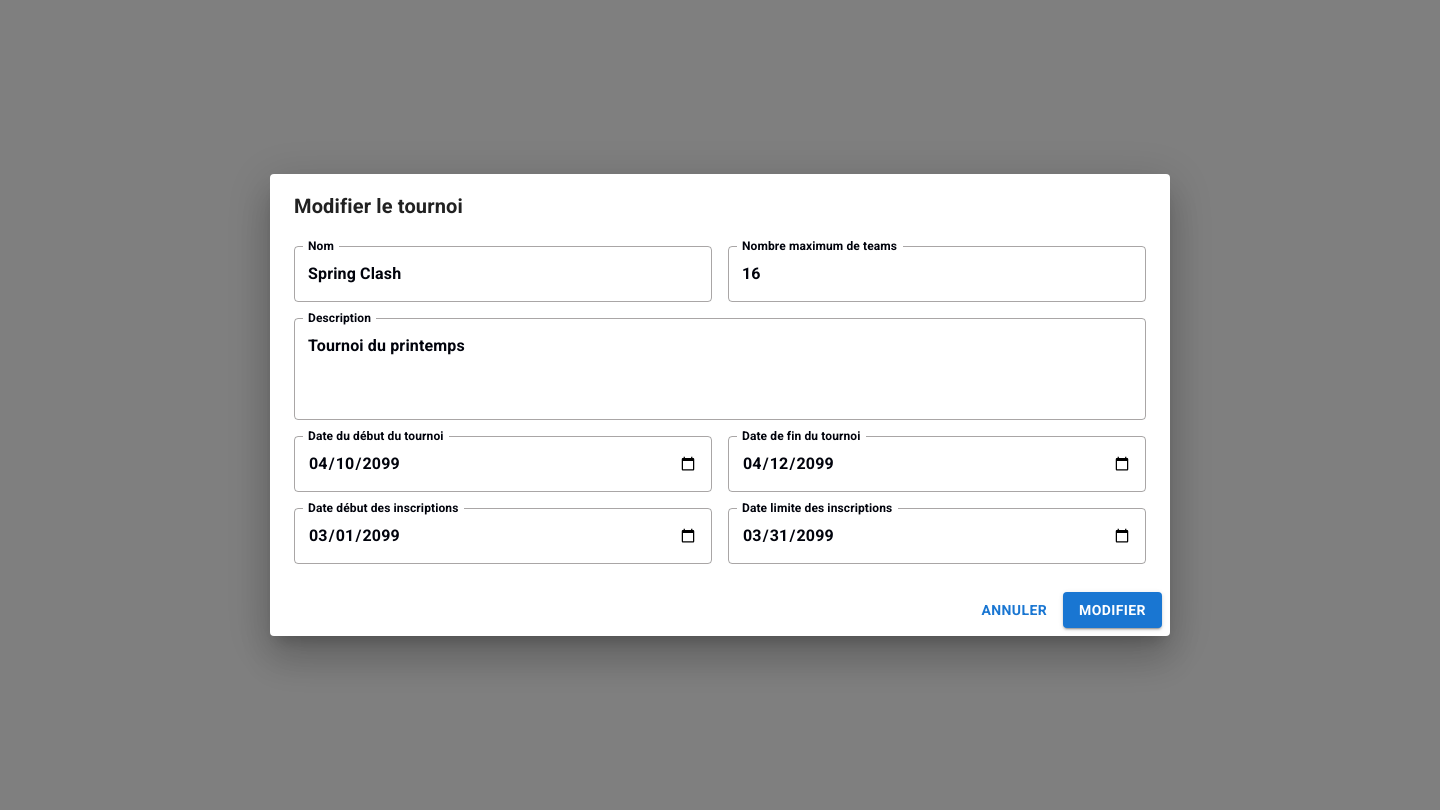
Test: EditTournamentDialog › shows the same validation error as tournament creation and prevents submit
The image size is (1440, 810).
Replace the text in the number field labelled "Nombre maximum de teams" with "1" at (937, 274), box left=728, top=246, right=1146, bottom=302
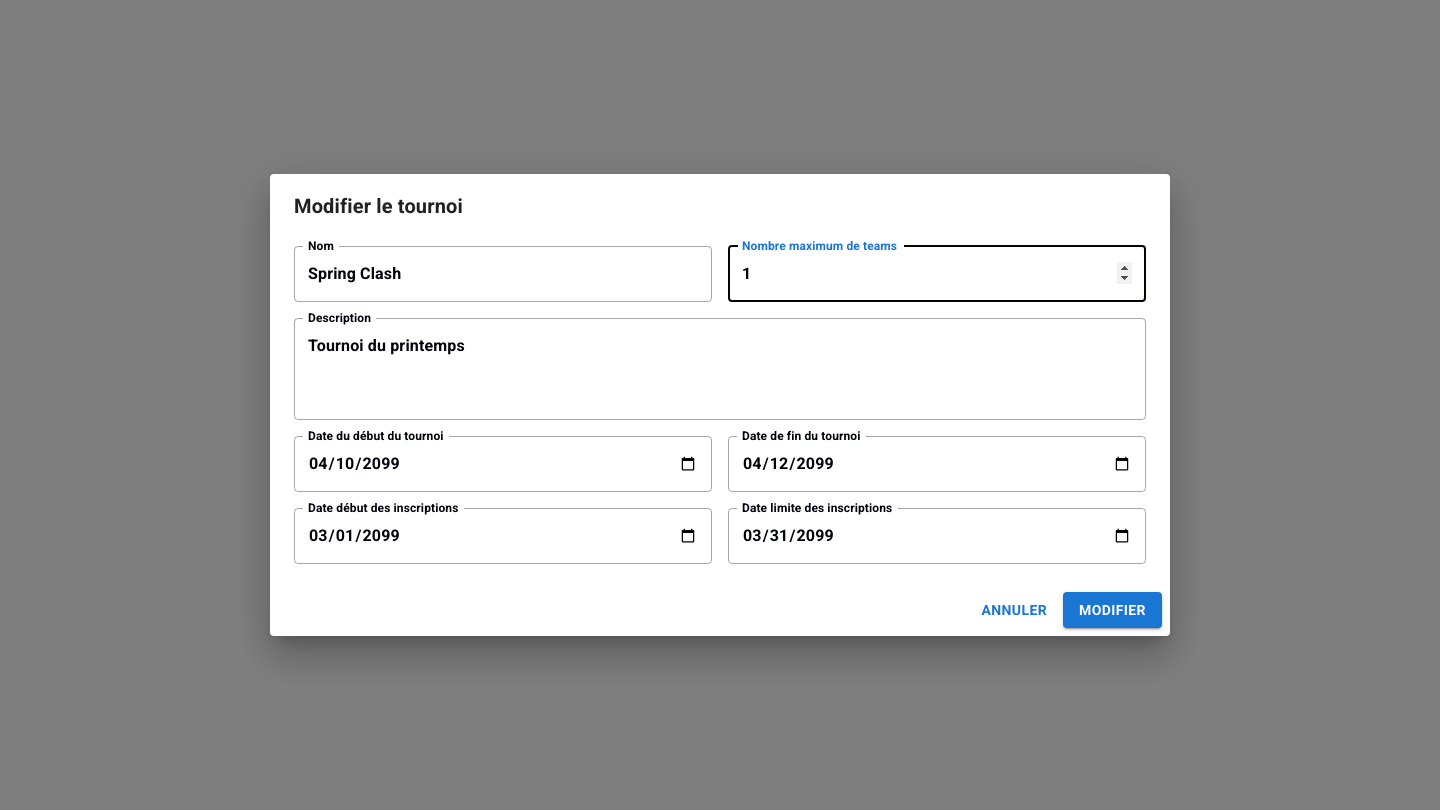
Click the button "Modifier" at (1113, 610), box left=1063, top=592, right=1162, bottom=628
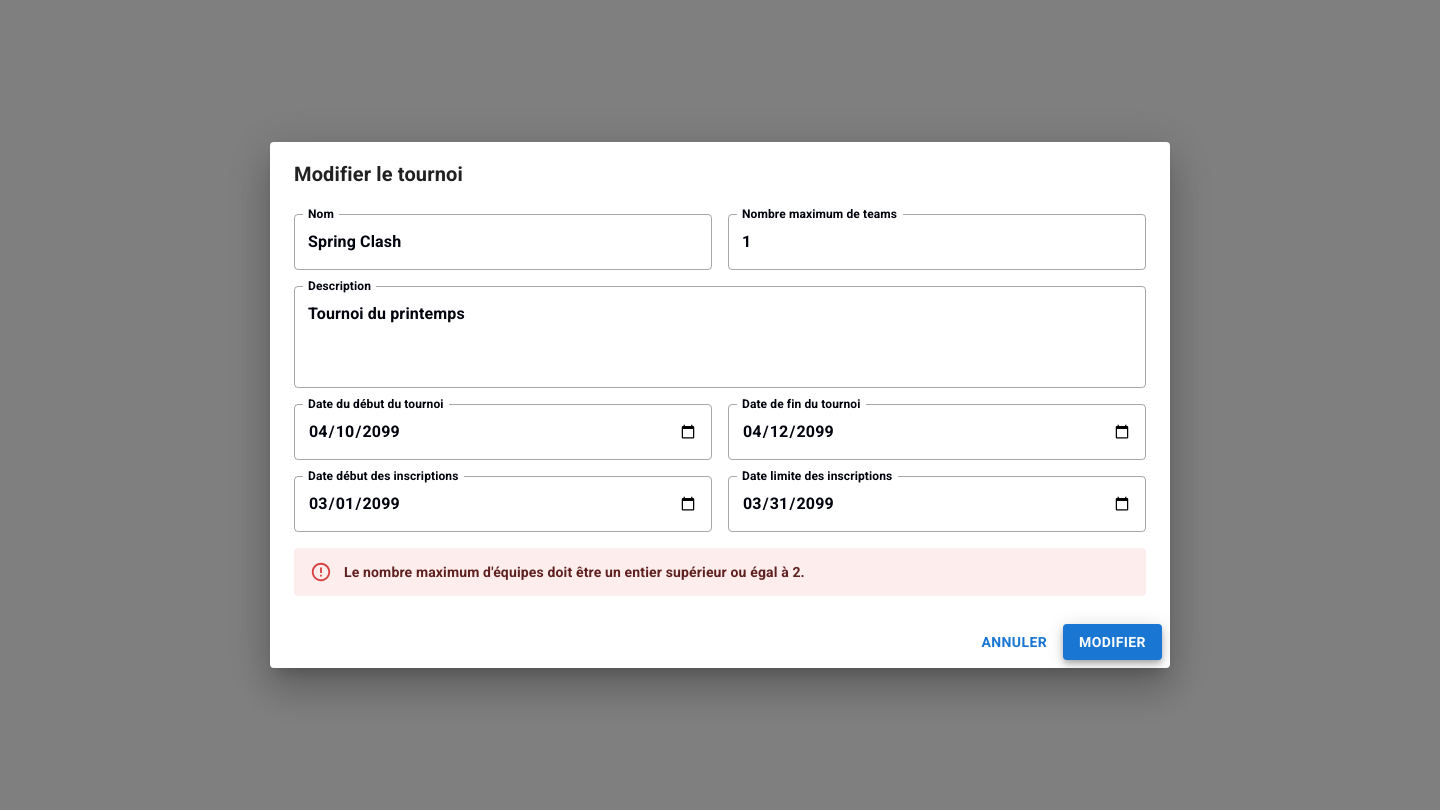
expect the text "Le nombre maximum d'équipes doit être un entier supérieur ou égal à 2." is shown: met, box left=344, top=564, right=805, bottom=580
